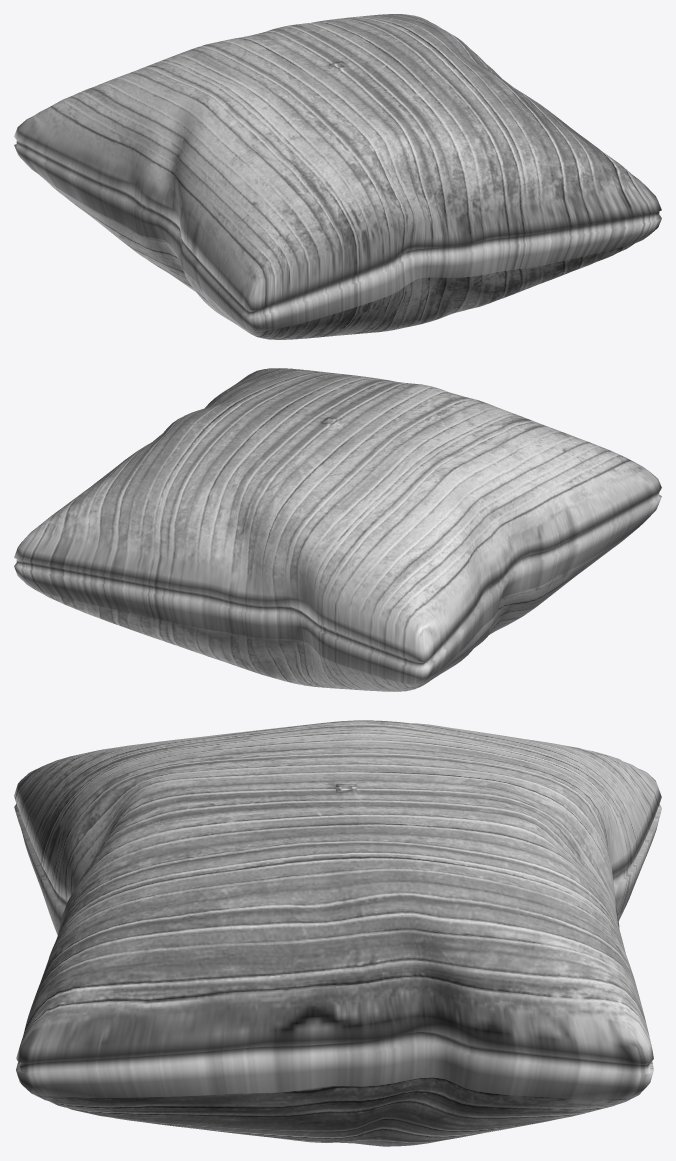
Rendered from pillow-00000.glb.
3 views of the same model, one above another, from view 1: azimuth 30°, elevation 25°; view 2: azimuth 150°, elevation 25°; view 3: azimuth 270°, elevation 25° (orthographic). The views are drawn at different scales.
Visible parts, largest first — view 1: Plane.002; view 2: Plane.002; view 3: Plane.002.
Boxes of the visible parts, left/top/right/bottom form: Plane.002: left=14, top=14, right=661, bottom=339; Plane.002: left=14, top=368, right=661, bottom=691; Plane.002: left=14, top=720, right=661, bottom=1146.
Bounding box in the file's own units: 0.4789 × 0.2379 × 0.4775.
Materials: 1 (1 with a texture image).
